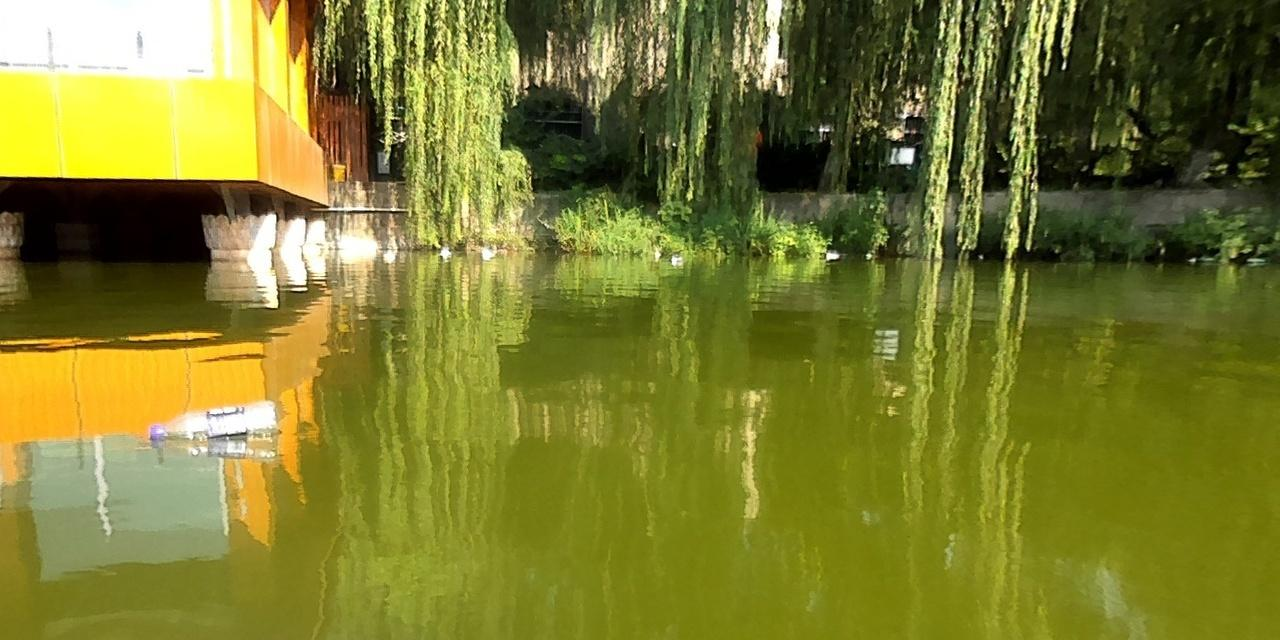bottle: (148, 399, 275, 445)
